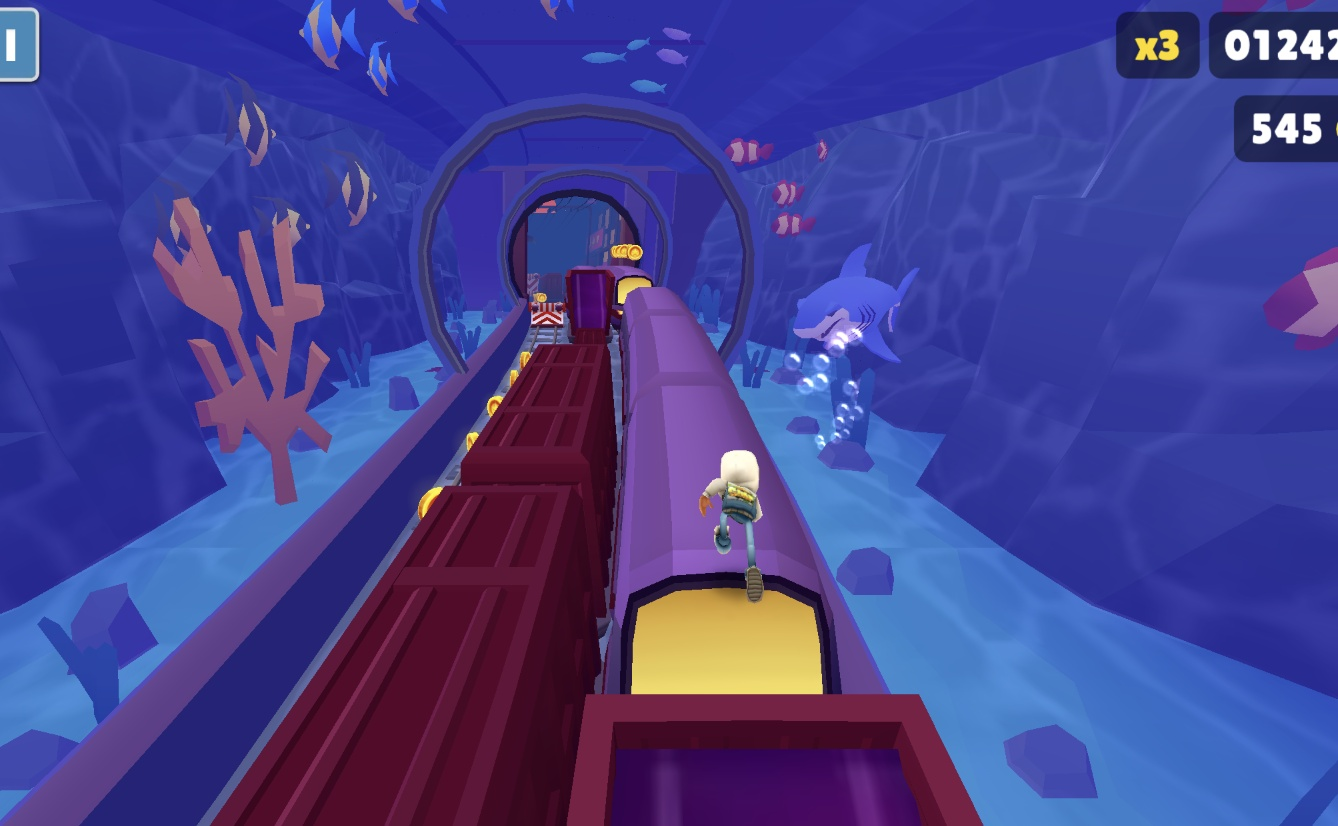ground_barrier: (524, 292, 564, 344)
train: (260, 289, 622, 826), (612, 284, 839, 696), (584, 691, 904, 826)
